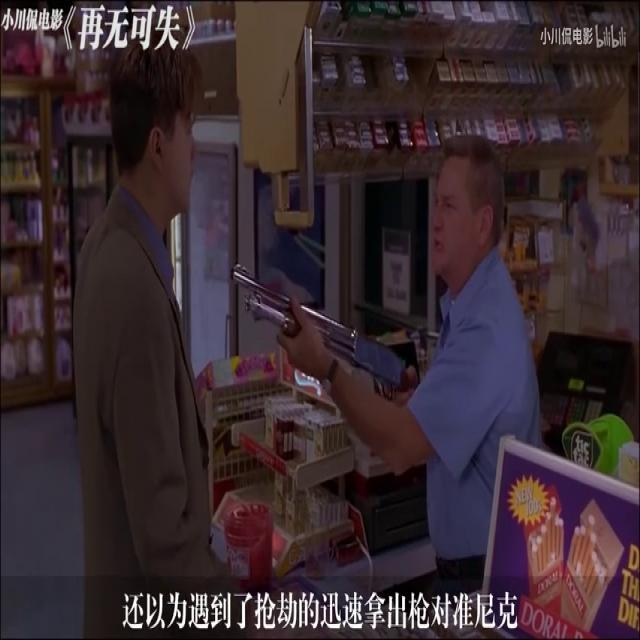gun-knife-thesis - v11 Yolov5 augmented: (223, 242, 437, 460)
